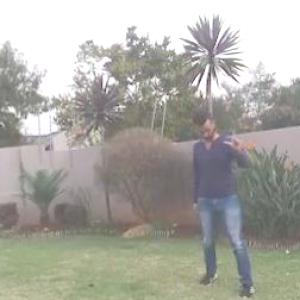land_hand: (225, 124, 245, 157)
